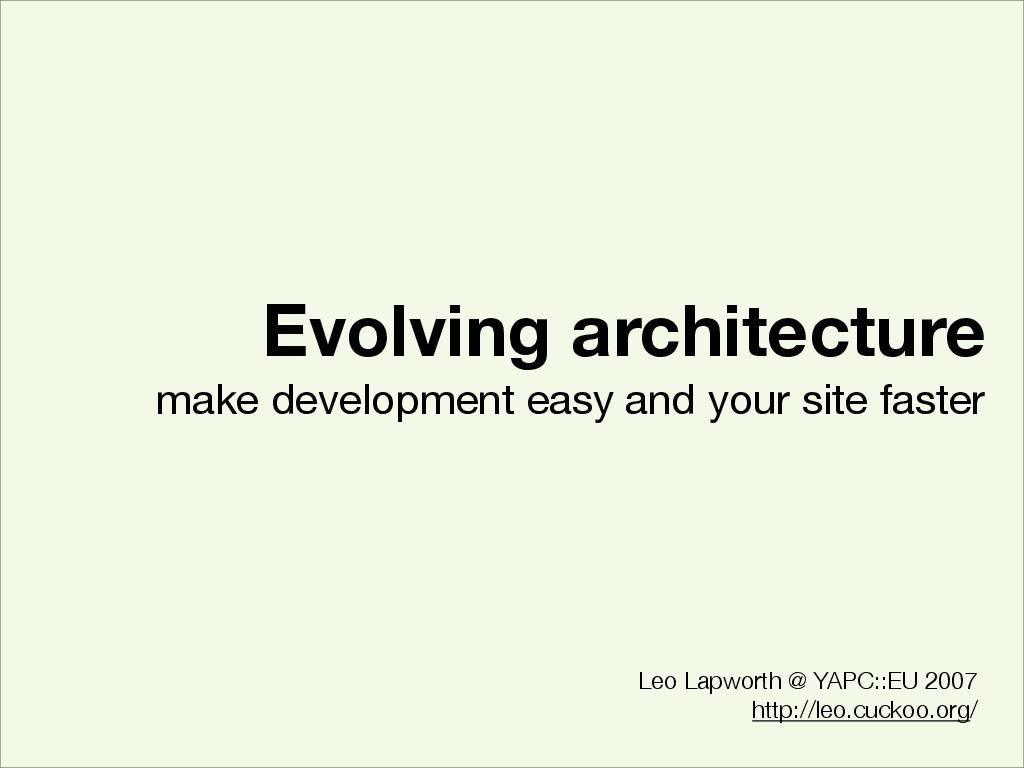paragraph: (133, 377, 1005, 439)
title: (241, 282, 991, 373)
